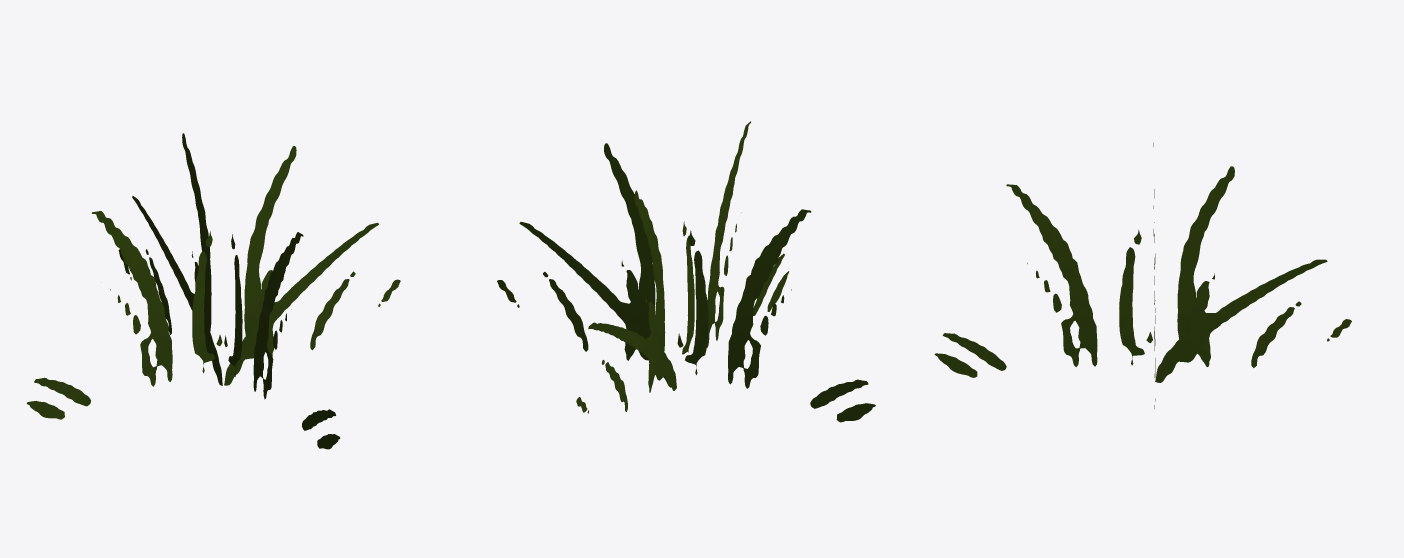
Rendered from KL_cao4.fbx.
The picture shows the model from 3 angles, left to right: view 1: azimuth 30°, elevation 25°; view 2: azimuth 150°, elevation 25°; view 3: azimuth 270°, elevation 25°; orthographic projection. The views are drawn at different scales.
Visible parts, largest first — view 1: polySurface1872; view 2: polySurface1872; view 3: polySurface1872.
Part boxes in pixels (x1,y1,x2,y2): polySurface1872: [26, 133, 400, 449]; polySurface1872: [497, 121, 875, 422]; polySurface1872: [934, 142, 1351, 408].
Size of the model in its own units: 0.6844 by 0.5557 by 0.6842.
